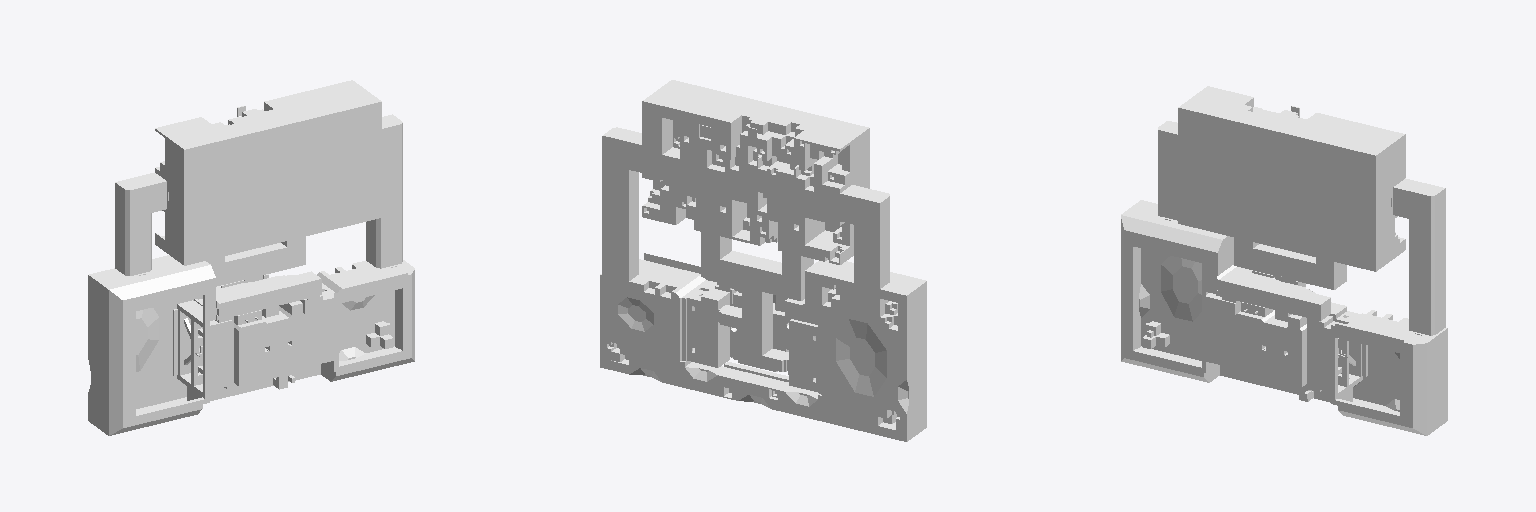
Rendered from hl_mp_stalkyard.obj.
The picture shows the model from 3 angles: view 1: azimuth 30°, elevation 25°; view 2: azimuth 150°, elevation 25°; view 3: azimuth 330°, elevation 25°; orthographic projection.
Visible parts, largest first — view 1: BSP_Object.model_0; view 2: BSP_Object.model_0; view 3: BSP_Object.model_0.
Part boxes in pixels (left/top/right/bottom): BSP_Object.model_0: left=88, top=80, right=414, bottom=435; BSP_Object.model_0: left=600, top=80, right=926, bottom=441; BSP_Object.model_0: left=1121, top=86, right=1447, bottom=435.
Bounding box in the file's own units: 2208 × 1904 × 376.